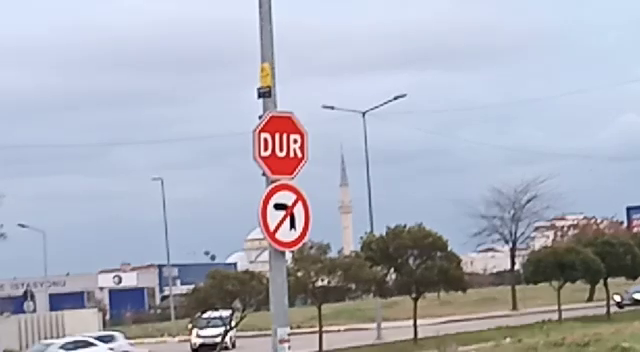no_left: (256, 179, 313, 253)
stop: (250, 109, 311, 182)
